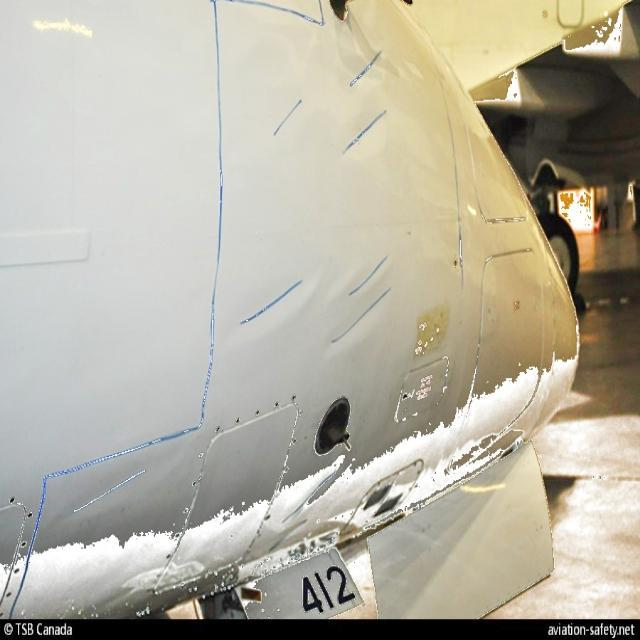dent: (340, 111, 387, 157)
